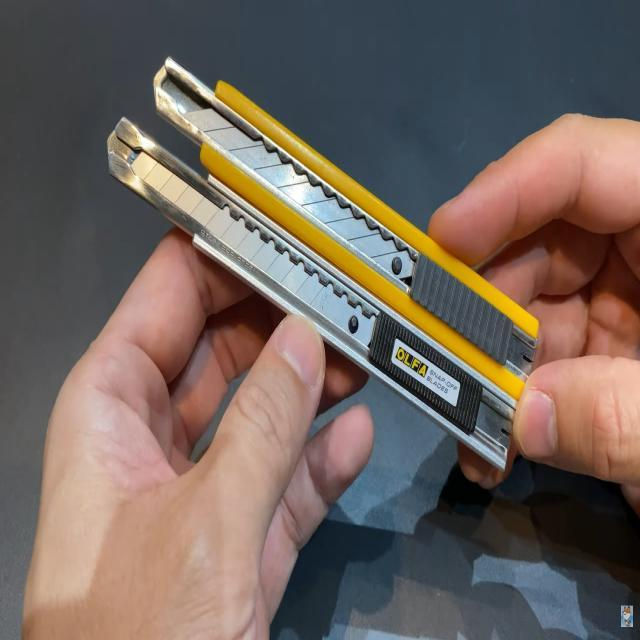cutter: (69, 0, 640, 582)
